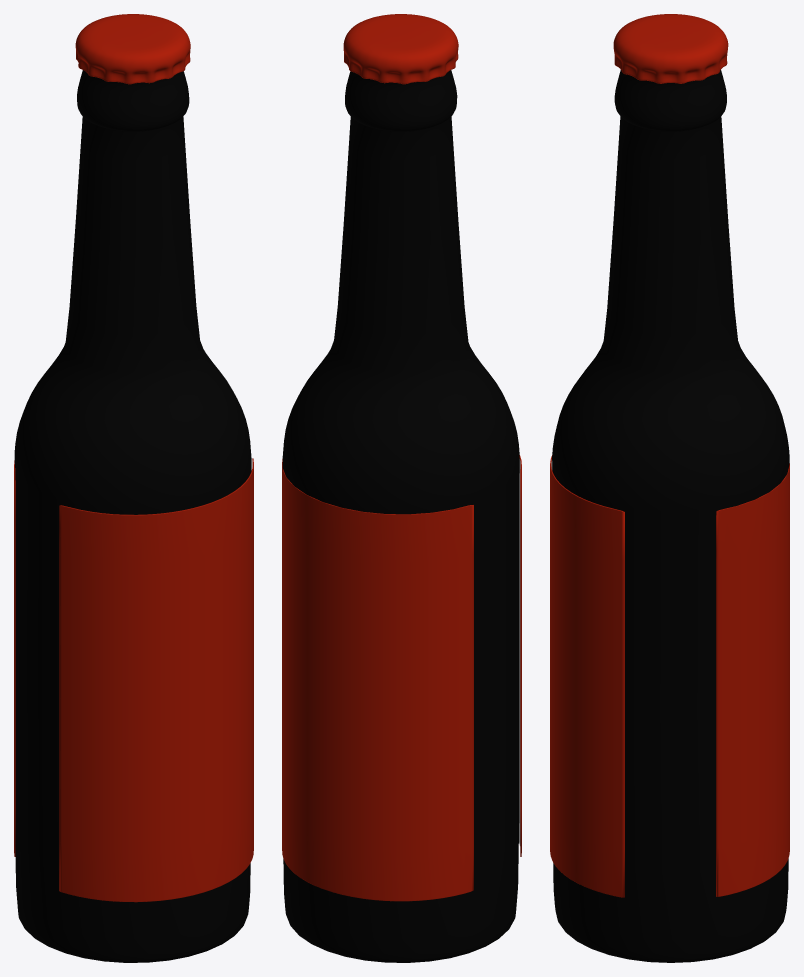
Rendered from Bottle.glb.
The picture shows the model from 3 angles, left to right: view 1: azimuth 30°, elevation 25°; view 2: azimuth 150°, elevation 25°; view 3: azimuth 270°, elevation 25°; orthographic projection.
Parts seen in each view (by area): view 1: Bottle, Lables, Cap; view 2: Bottle, Lables, Cap; view 3: Bottle, Lables, Cap.
Part boxes in pixels (x1,y1,x2,y2): Bottle: (14, 70, 251, 962); Lables: (14, 458, 253, 902); Cap: (75, 14, 190, 84); Bottle: (282, 70, 519, 962); Lables: (282, 455, 521, 901); Cap: (343, 14, 458, 84); Bottle: (552, 70, 789, 962); Lables: (550, 455, 789, 897); Cap: (613, 14, 728, 83).
Size of the model in its own units: 0.0848 by 0.3483 by 0.0857.
